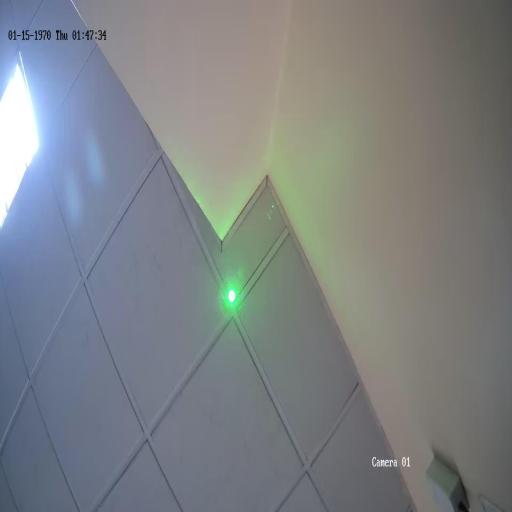laser: (225, 283, 237, 307)
